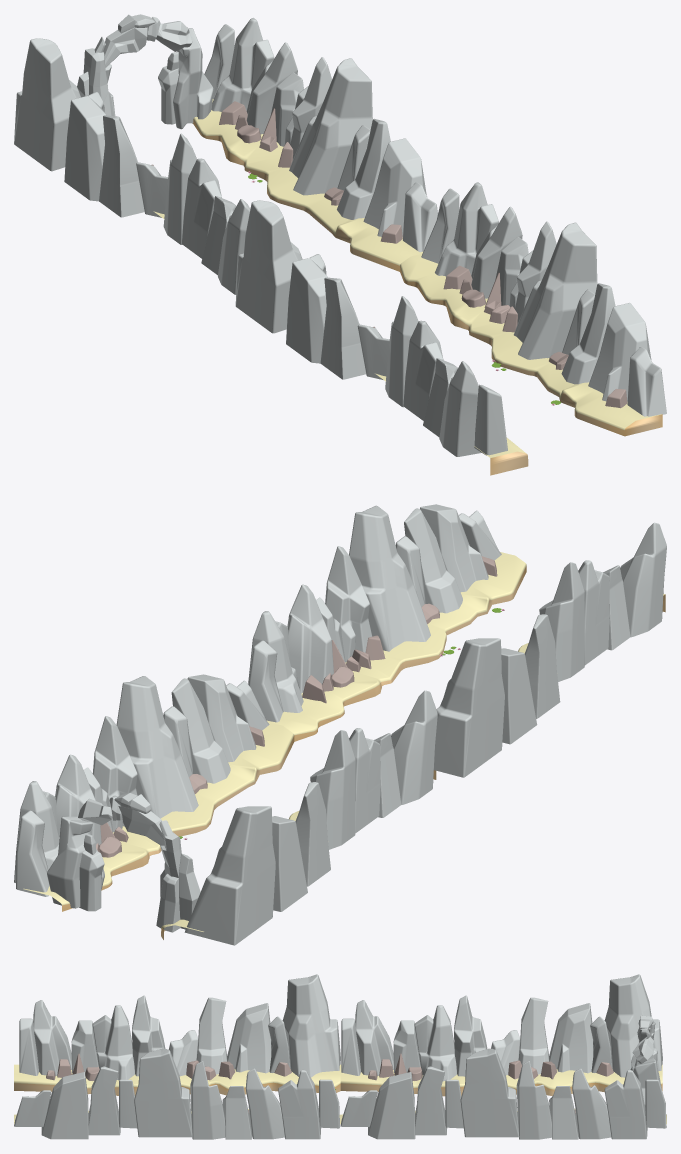
The picture shows the model from 3 angles, top to bottom: view 1: azimuth 30°, elevation 25°; view 2: azimuth 150°, elevation 25°; view 3: azimuth 270°, elevation 25°; orthographic projection. The views are drawn at different scales.
Visible parts, largest first — view 1: BG_4; view 2: BG_4; view 3: BG_4.
Part boxes in pixels (<box>): BG_4: <box>14,14,666,475</box>; BG_4: <box>14,504,666,945</box>; BG_4: <box>14,974,666,1139</box>.
Size of the model in its own units: 22454 by 12195 by 77608.
